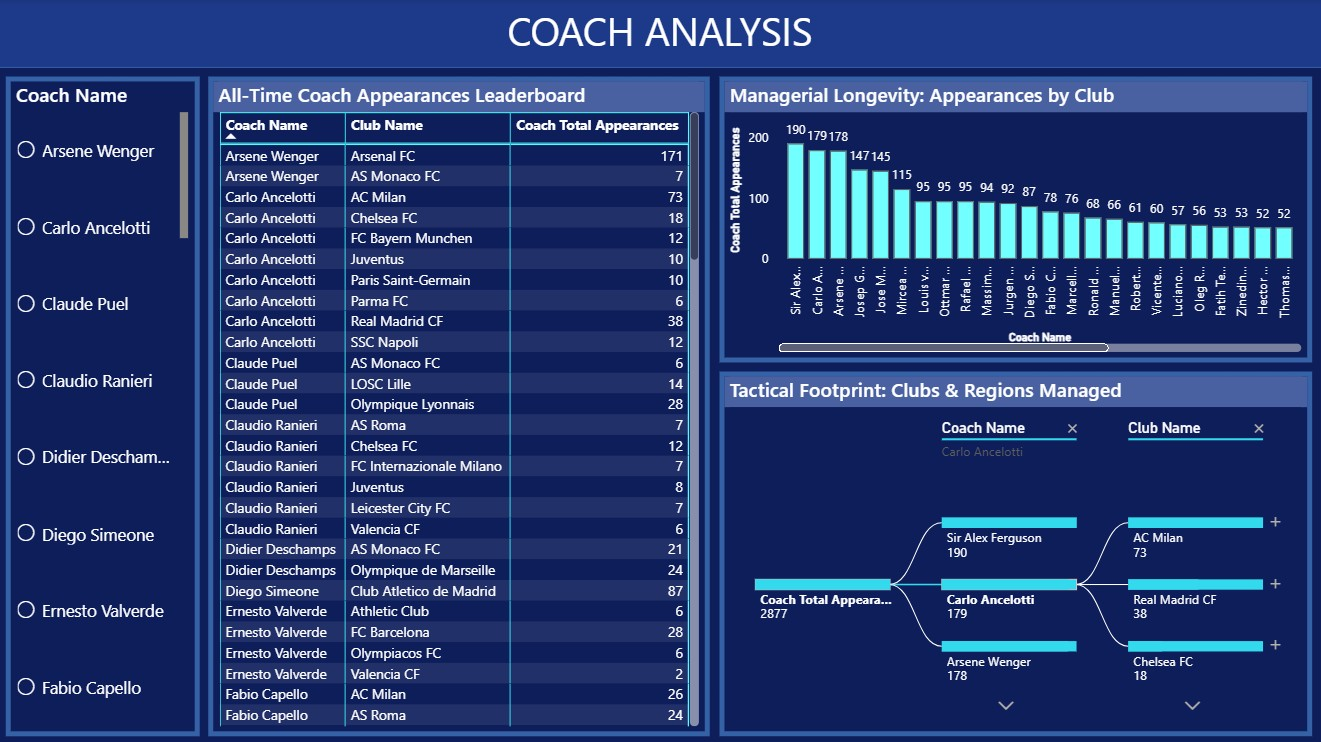

The page's visual inventory and layout, read from the dashboard file:
{"tool":"powerbi","page":{"name":"Page 4","canvas":[1280,720],"ordinal":3},"visuals":[{"type":"textbox","box":[0,0,1280,66.4],"z":0},{"type":"listSlicer","fields":{"Values":["ucl dim_coach.coach_name"]},"box":[8.4,74.8,187,637],"z":1000},{"type":"columnChart","title":"Managerial Longevity: Appearances by Club","fields":{"Y":["ucl fact_coach_appearances_total.Coach Total Appearances"],"Category":["ucl dim_coach.coach_name"]},"box":[697.3,74.8,571.9,276.3],"z":2000},{"type":"decompositionTreeVisual","title":"Tactical Footprint: Clubs & Regions Managed","fields":{"Analyze":["ucl fact_coach_appearances_total.Coach Total Appearances"],"ExplainBy":["ucl dim_coach.coach_name","ucl dim_club.club_name","ucl dim_country.country_name"]},"box":[697.3,359.5,571.9,352.3],"z":3000},{"type":"tableEx","title":"All-Time Coach Appearances Leaderboard","fields":{"Values":["ucl dim_coach.coach_name","ucl dim_club.club_name","ucl fact_coach_appearances_total.Coach Total Appearances"]},"box":[203.9,74.8,483.8,637],"z":3001}]}

Visuals, with their boxes in screenshot pixels (x1, y1, x2, y2), scaled from the page's 1280x720 canvas onto the 1321x742 screenshot:
textbox: (0, 0, 1320, 68)
listSlicer - ucl dim_coach.coach_name: (9, 77, 202, 734)
"Managerial Longevity: Appearances by Club" columnChart: (720, 77, 1310, 362)
"Tactical Footprint: Clubs & Regions Managed" decompositionTreeVisual: (720, 370, 1310, 734)
"All-Time Coach Appearances Leaderboard" tableEx: (210, 77, 710, 734)
